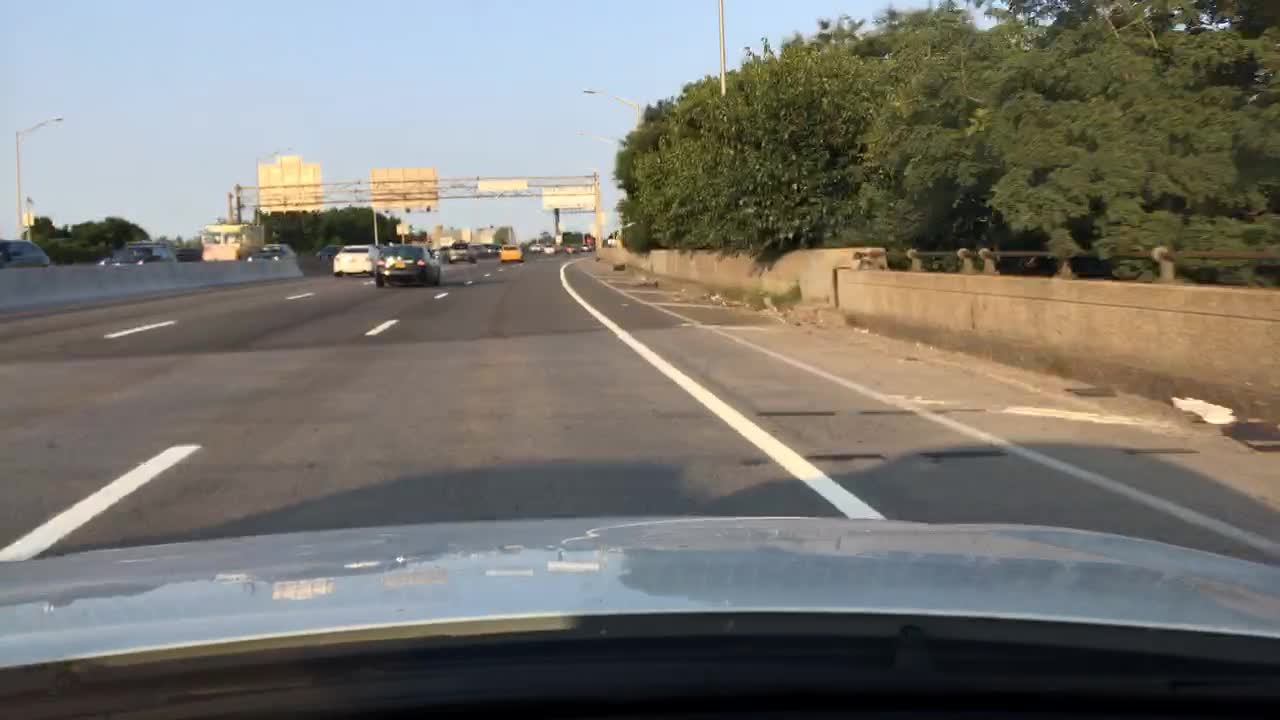bus: (204, 223, 266, 263)
car: (373, 242, 442, 288), (97, 239, 178, 265), (0, 236, 49, 268), (330, 243, 379, 275), (247, 243, 299, 261), (446, 241, 477, 263), (318, 241, 347, 260), (499, 242, 525, 262), (477, 242, 500, 258), (428, 242, 440, 260), (528, 242, 544, 253), (544, 243, 556, 254), (564, 243, 577, 253), (581, 243, 593, 252)
traffic sign: (254, 154, 320, 211), (368, 168, 439, 208), (542, 187, 596, 208), (478, 178, 527, 191)
